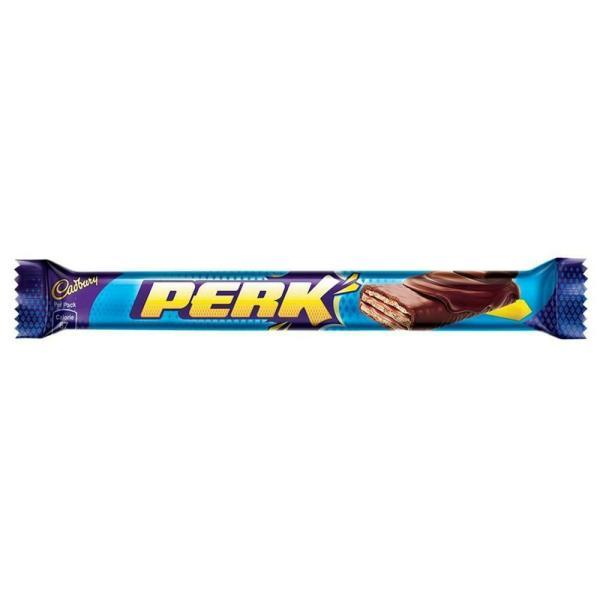Perk: (16, 256, 588, 341)
